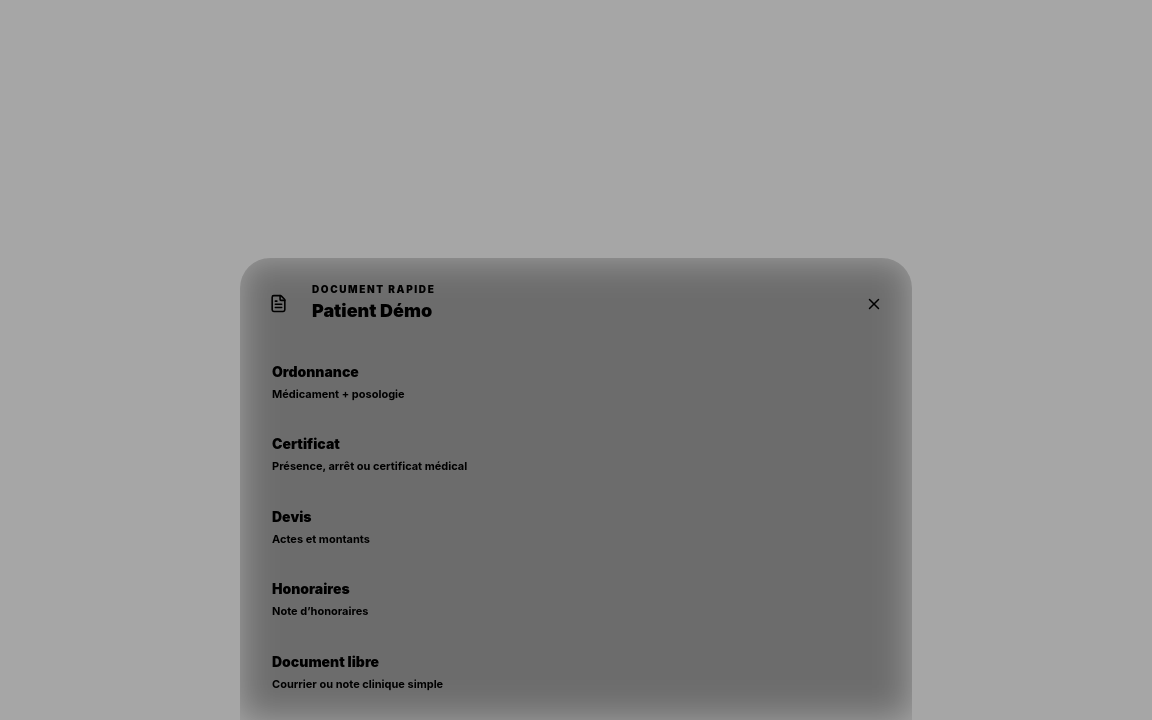
Test: MobileQuickDocumentSheet › rejects a zero-value honoraires line before preview
The image size is (1152, 720).
Click the button "Honoraires Note d’honoraires".
click(311, 588)  # box [256,567,896,632]
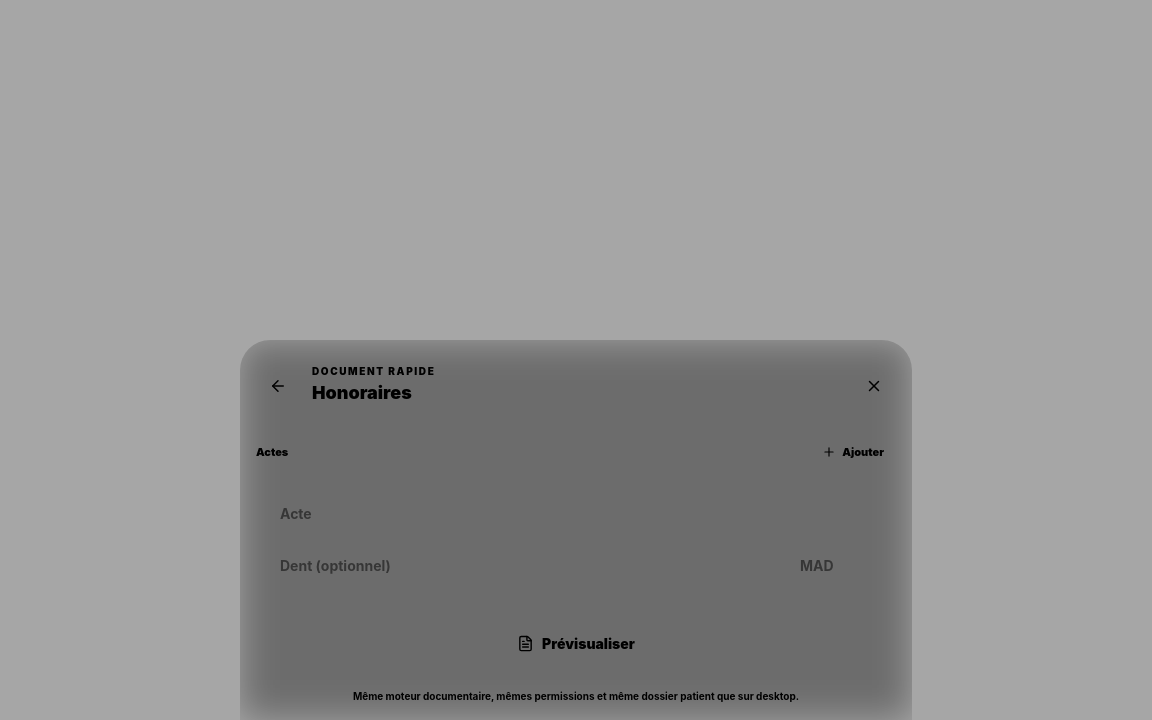
Type "Consultation" into the field with placeholder "Acte".
click(576, 514); type("Consultation")  # box [268,492,884,536]
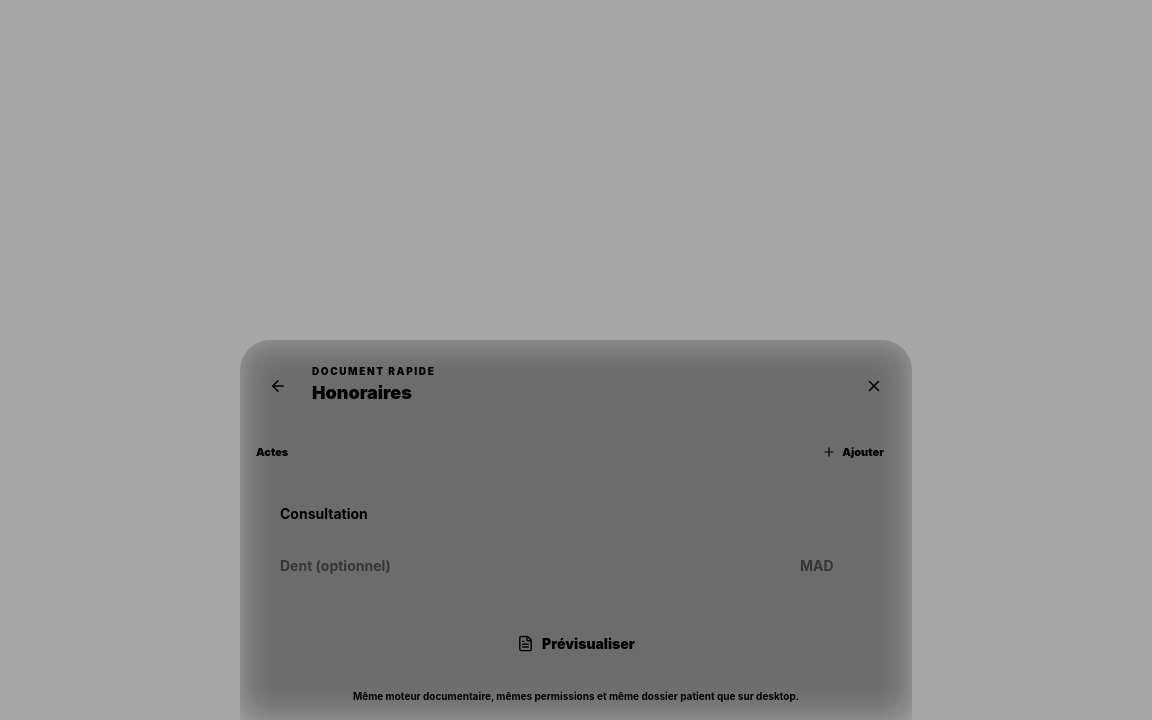
Type "0" into the field with placeholder "MAD".
click(836, 566); type("0")  # box [788,544,884,588]
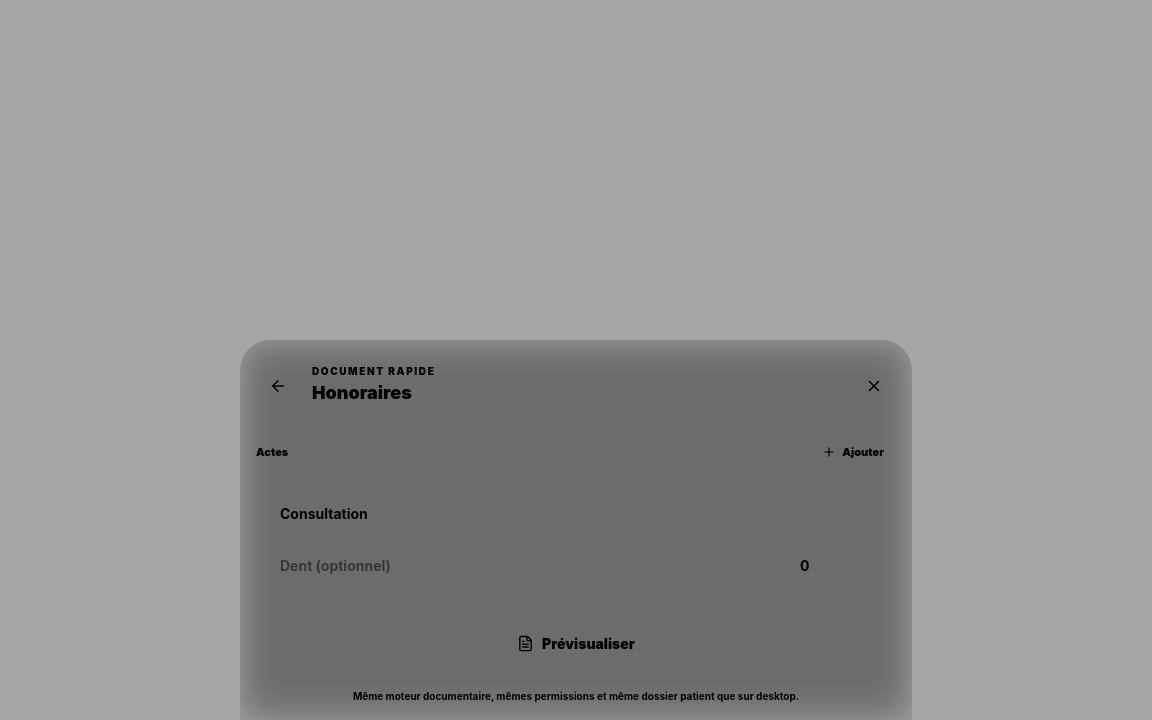
Click the button "Prévisualiser".
click(576, 644)  # box [256,616,896,672]
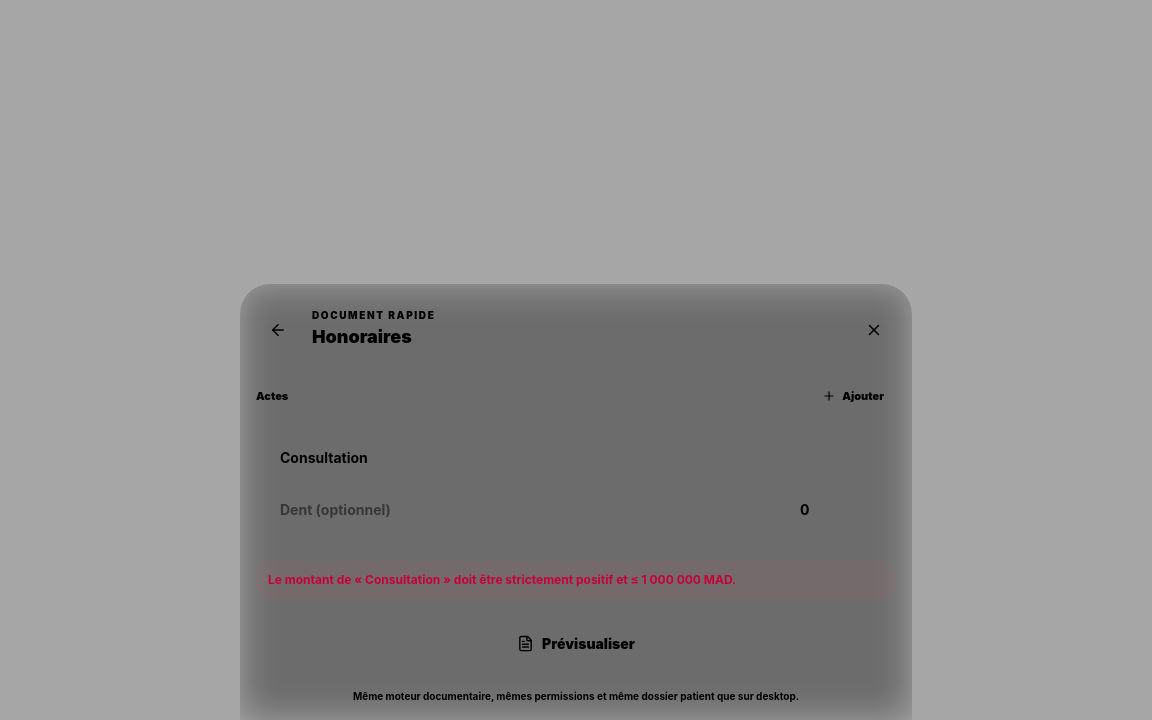
expect the text "strictement positif" is shown: met, box [268,572,736,587]
